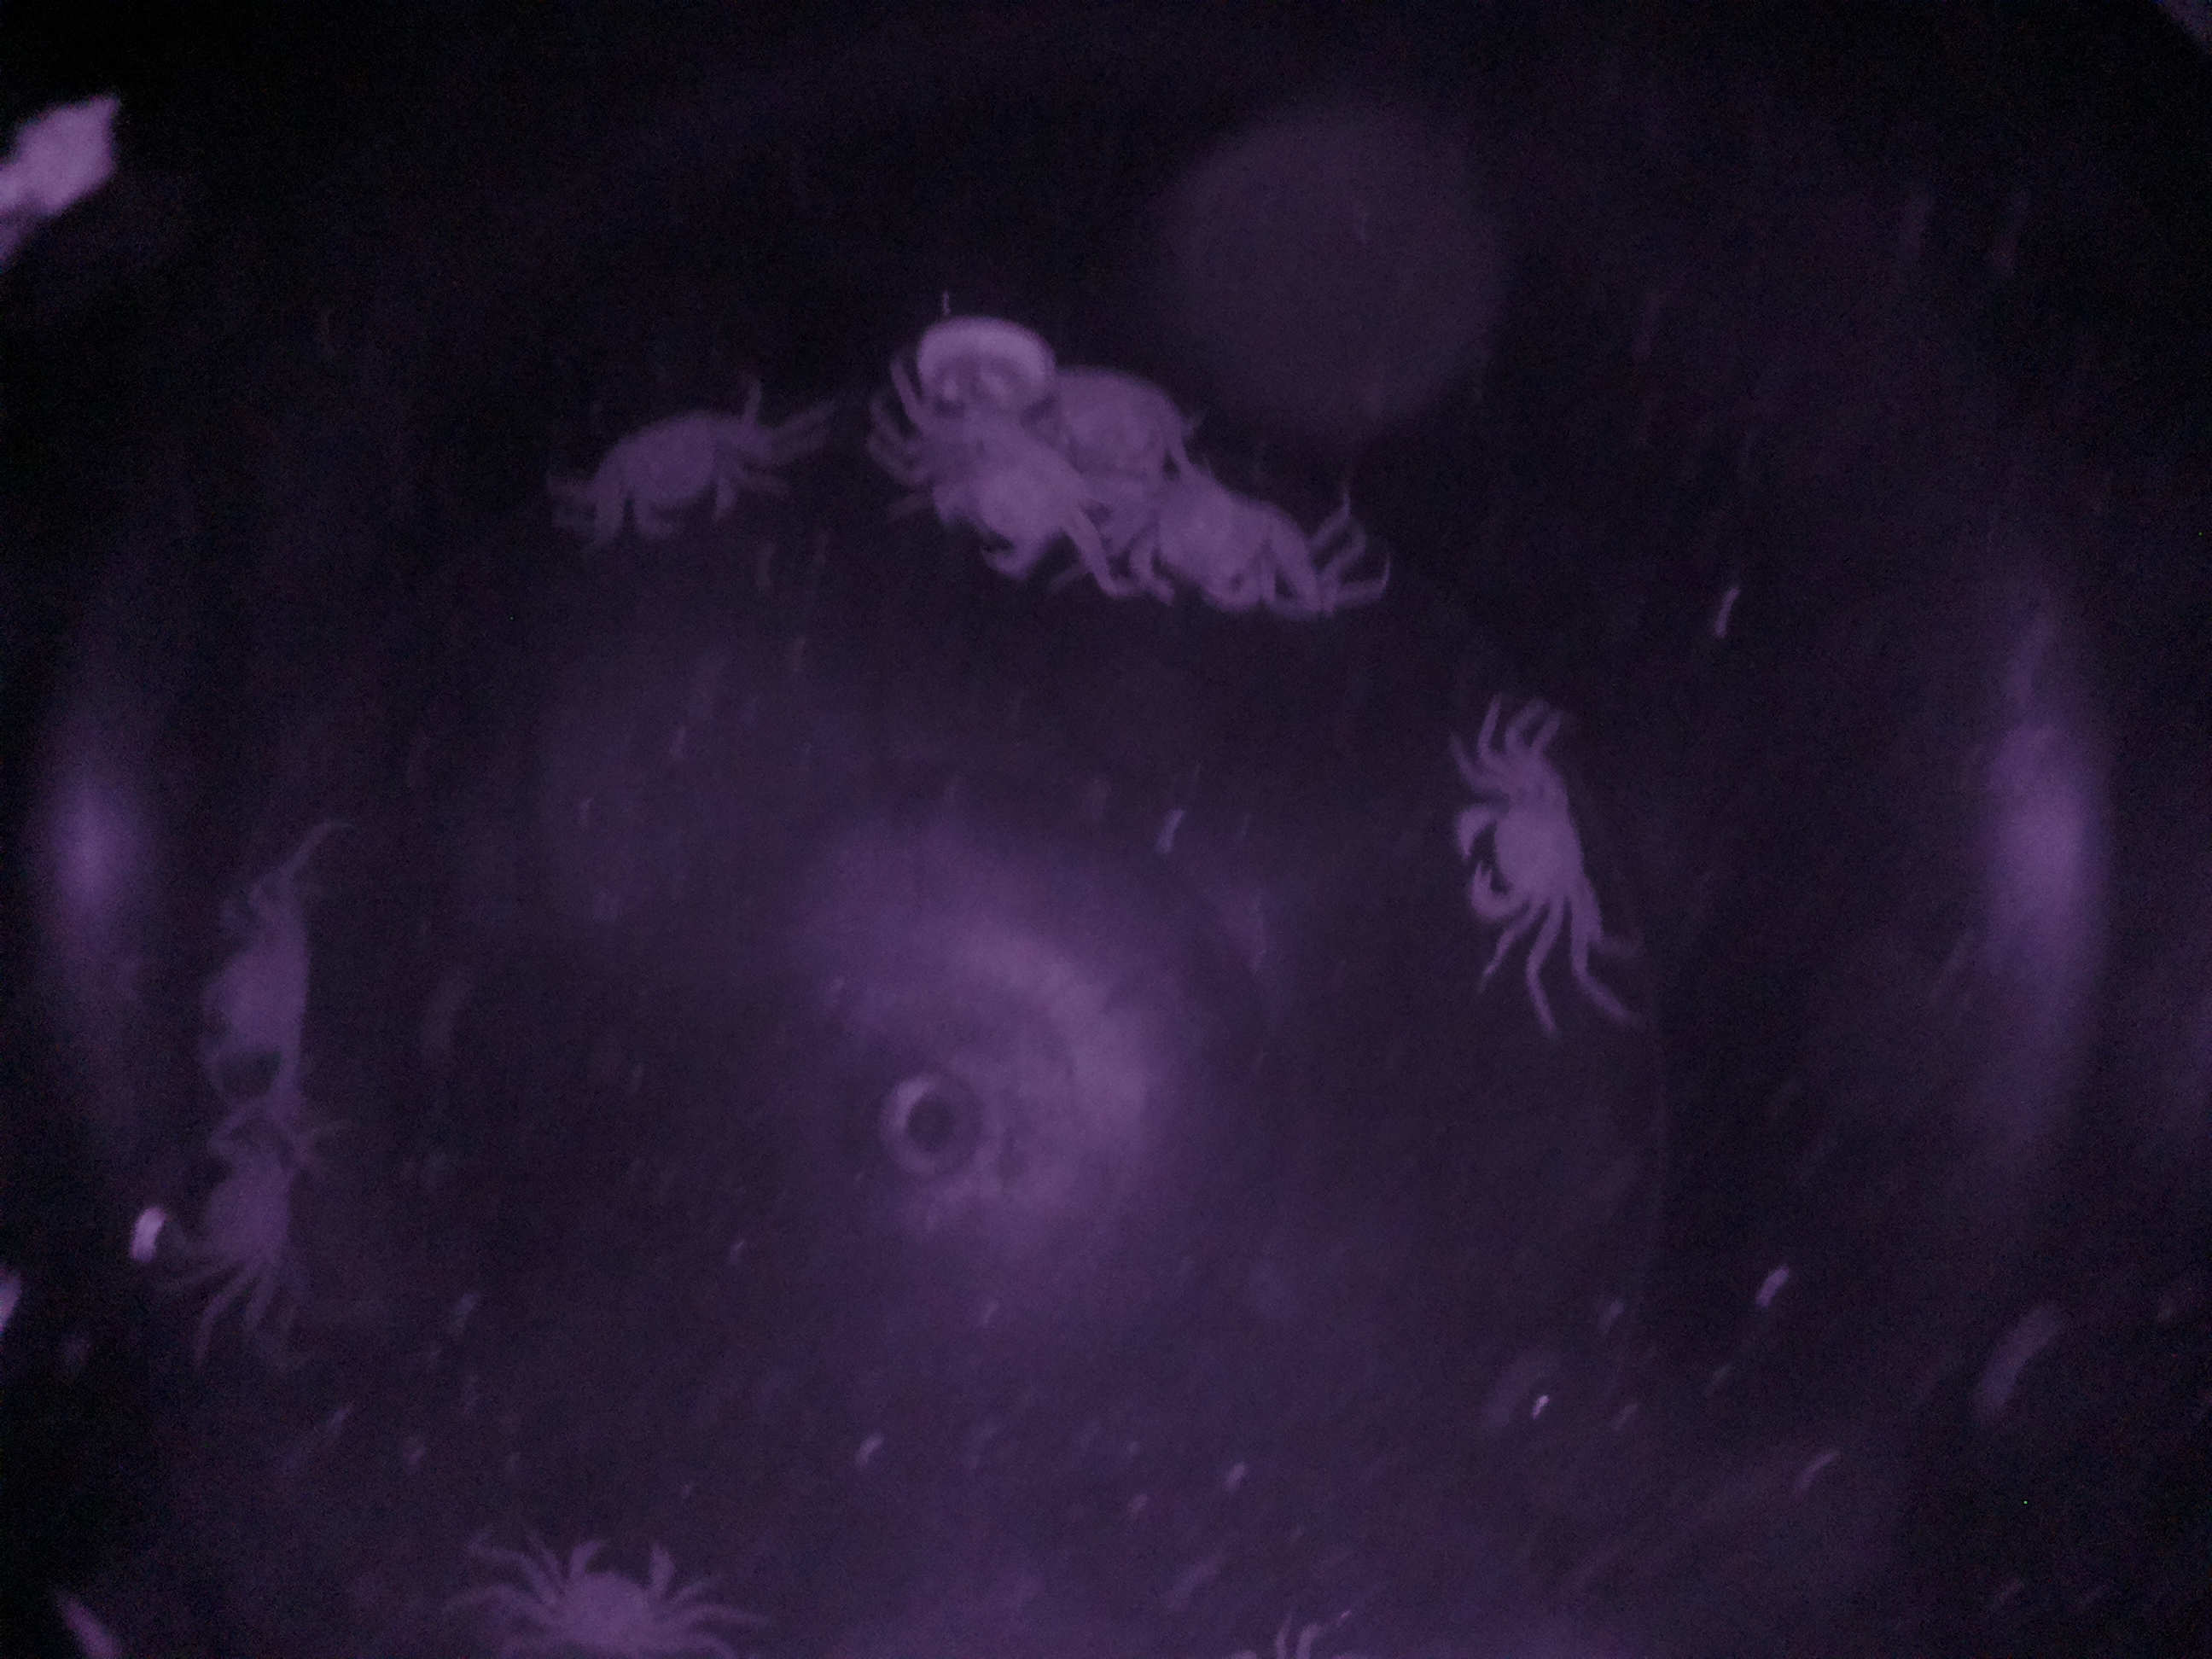Crab: (1437, 742, 1639, 976)
